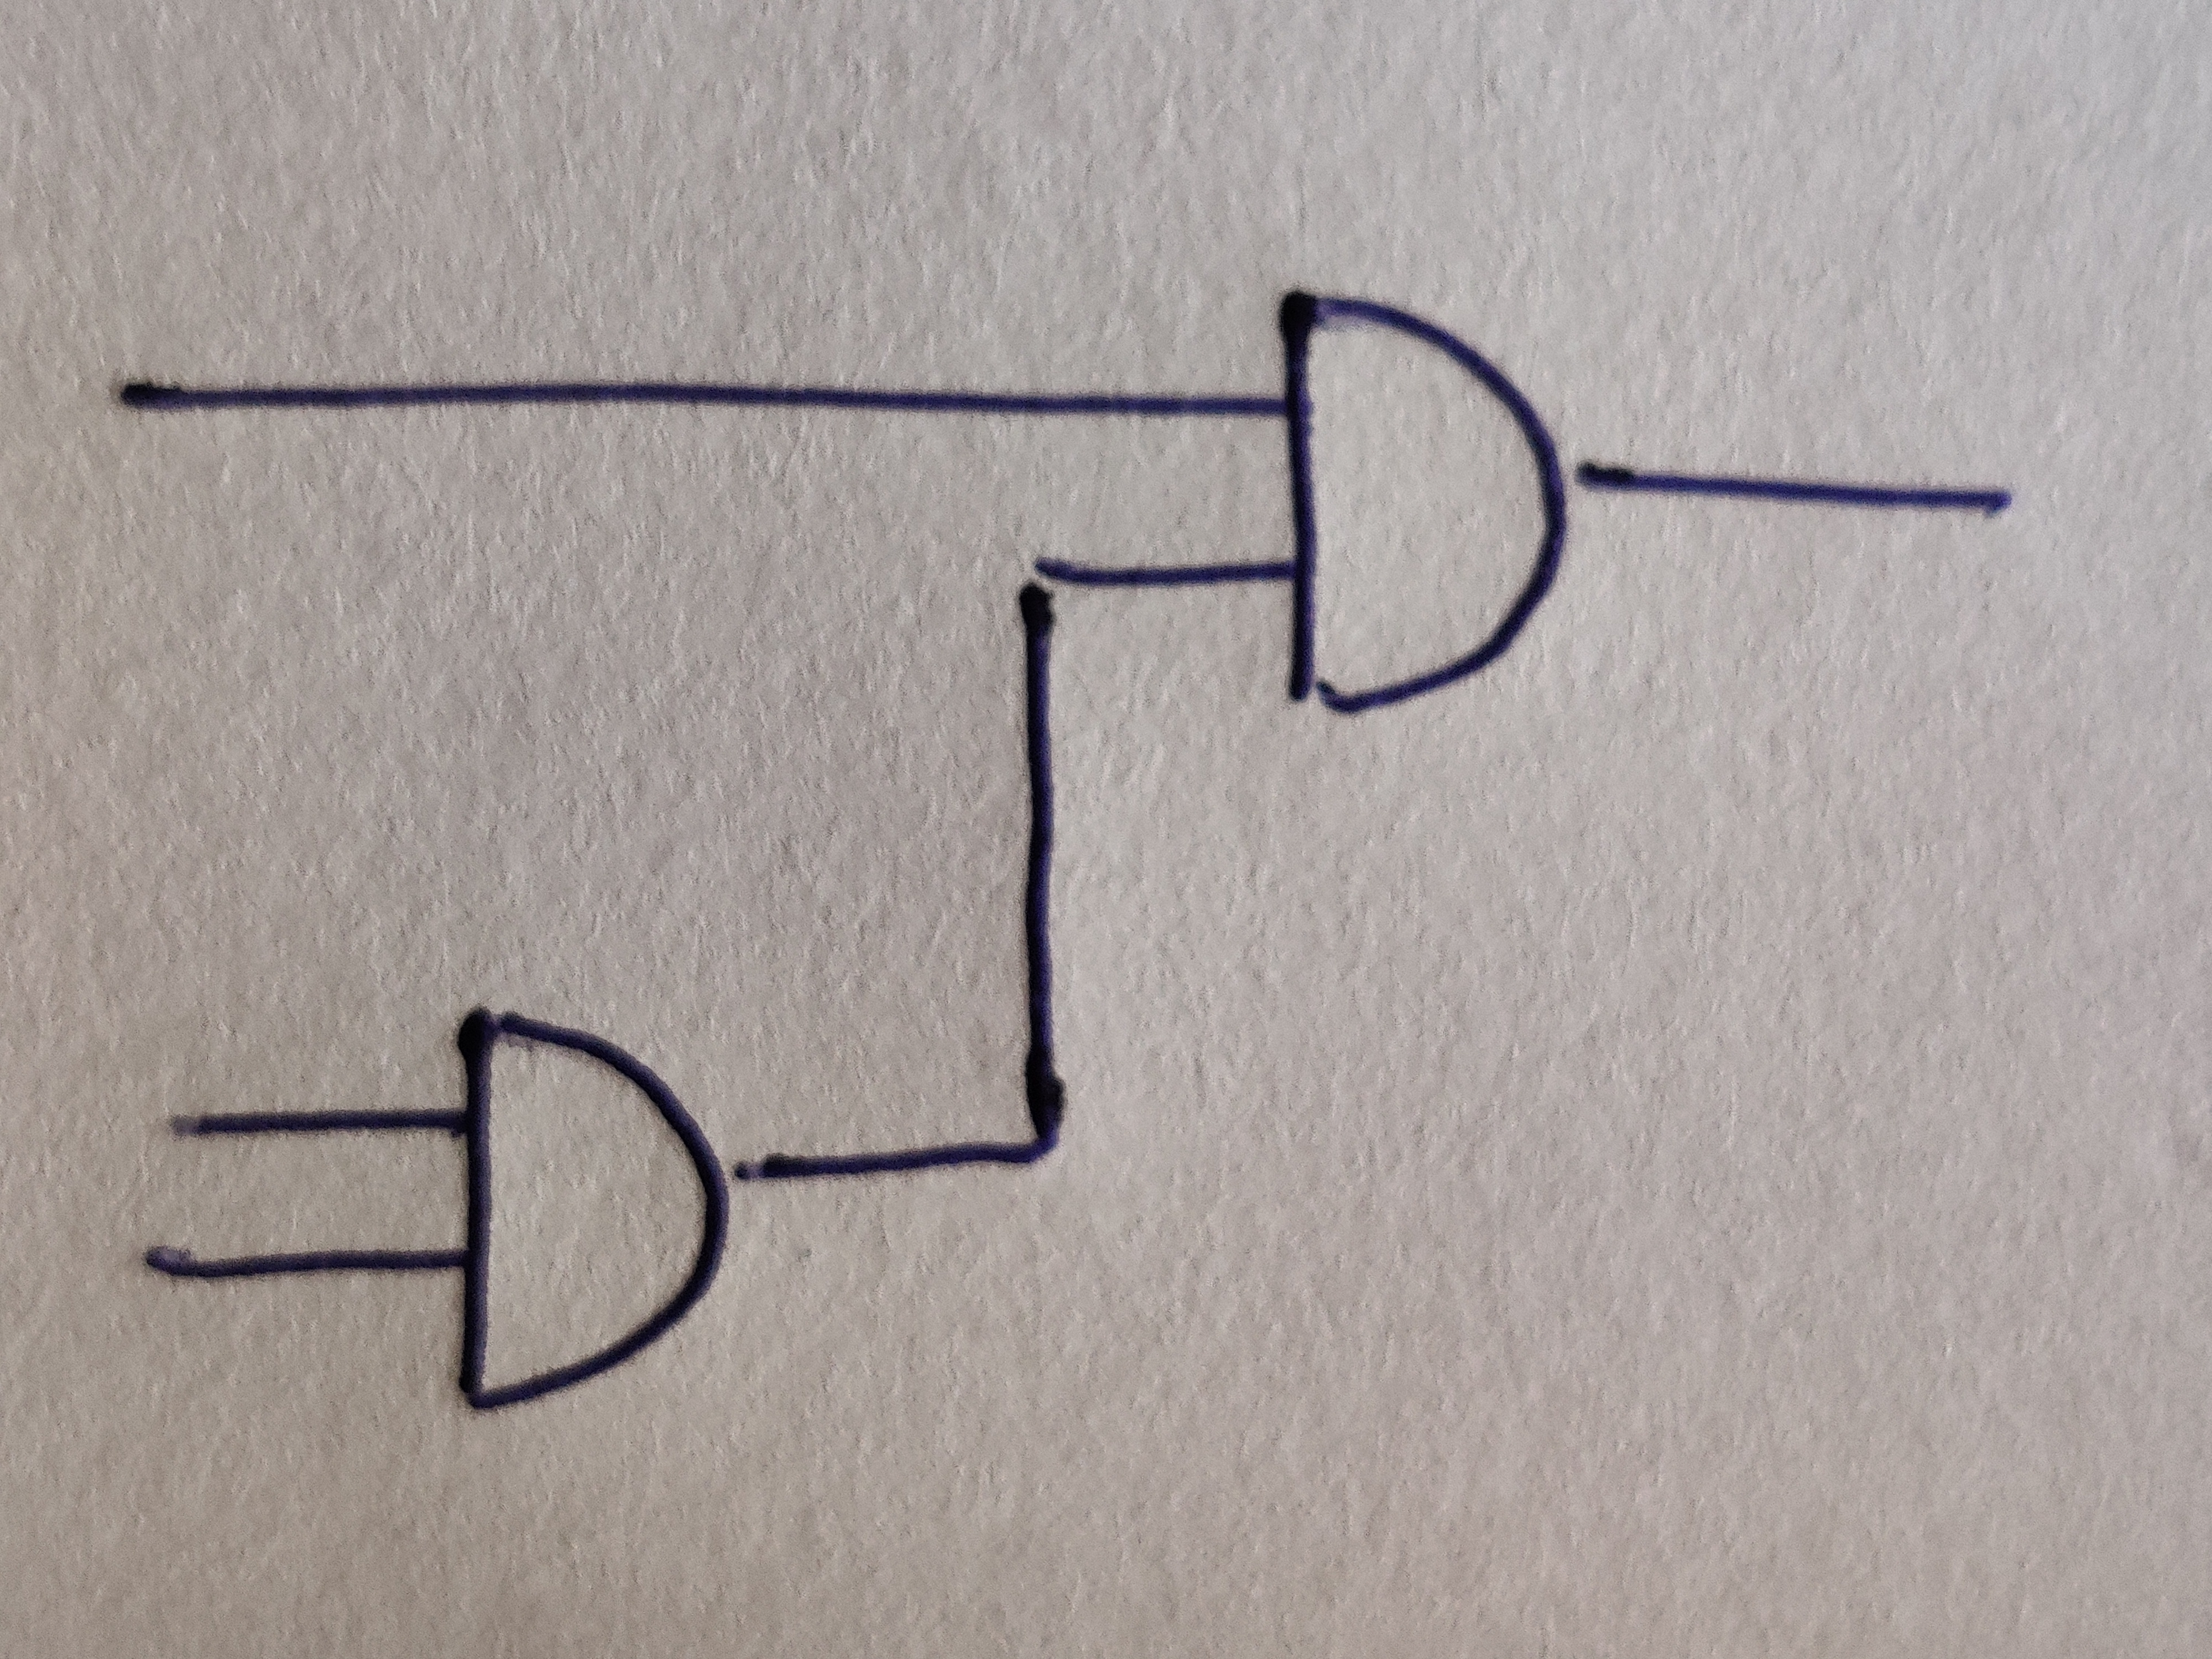and: (1282, 293, 1566, 714), (460, 1007, 728, 1413)
